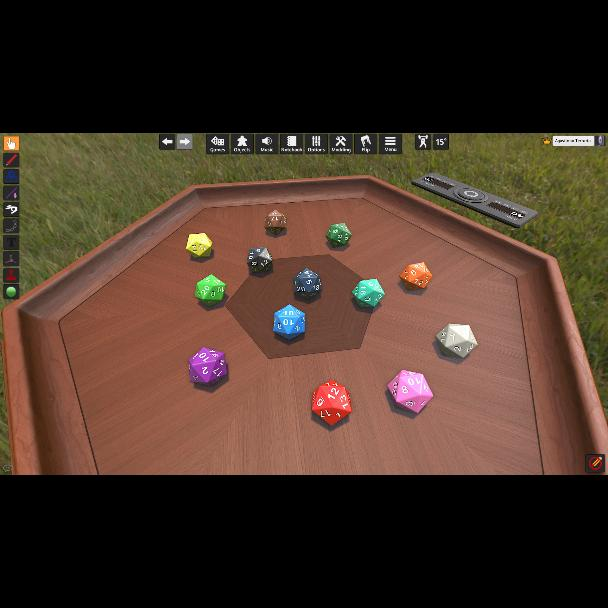d20: (388, 369, 434, 413), (310, 381, 350, 425), (434, 323, 478, 359), (189, 347, 227, 385), (273, 305, 305, 339), (195, 274, 225, 306), (352, 278, 384, 307), (401, 264, 432, 290), (292, 270, 319, 298), (246, 246, 272, 272), (325, 224, 351, 248), (187, 234, 213, 258), (265, 210, 287, 236)
